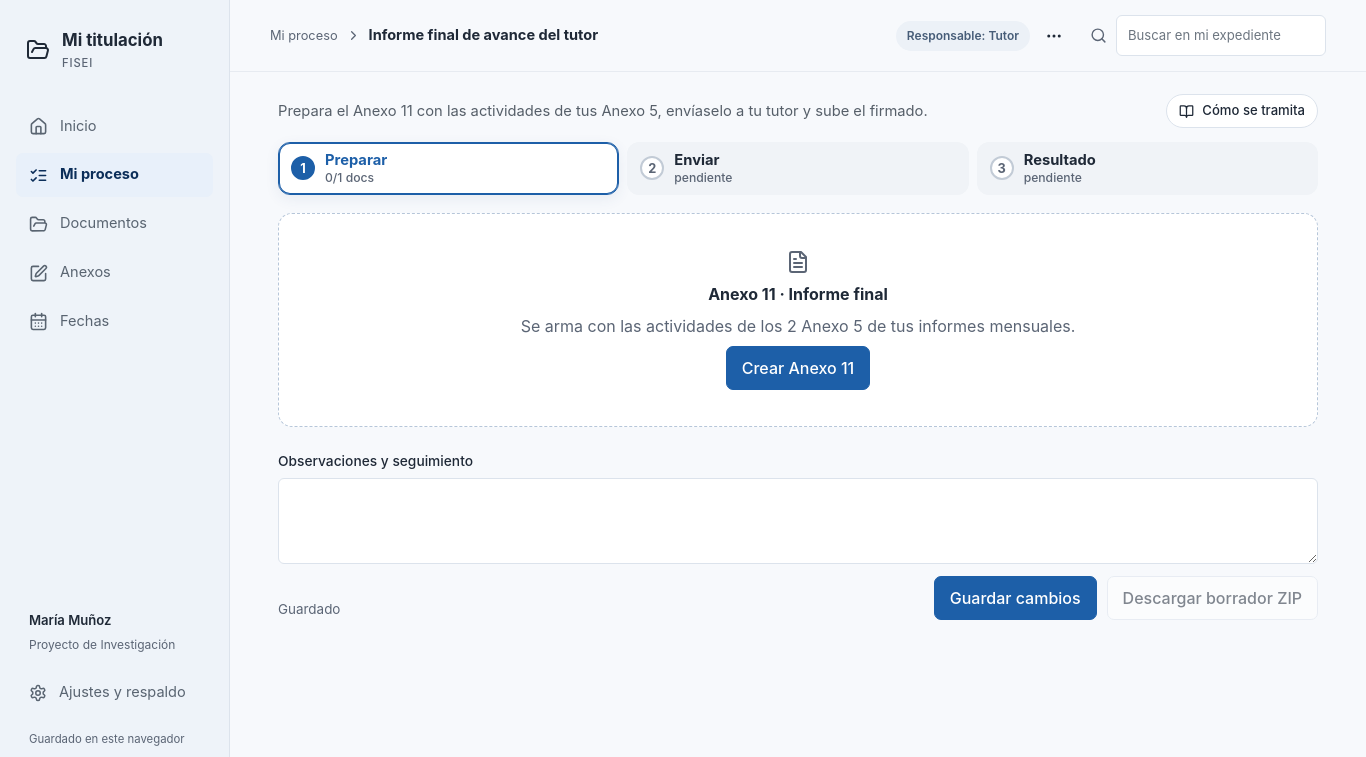
Test: creates the Anexo 11 from the uploaded Anexo 5 and keeps the format notes in a tooltip
Expected: the heading "Informe final de avance del tutor" is shown, [369, 27, 598, 44]
Expected: the button "Cómo se tramita" is shown, [1166, 94, 1318, 128]
Click the button "Crear Anexo 11". click: (798, 368)
box: [726, 346, 870, 390]
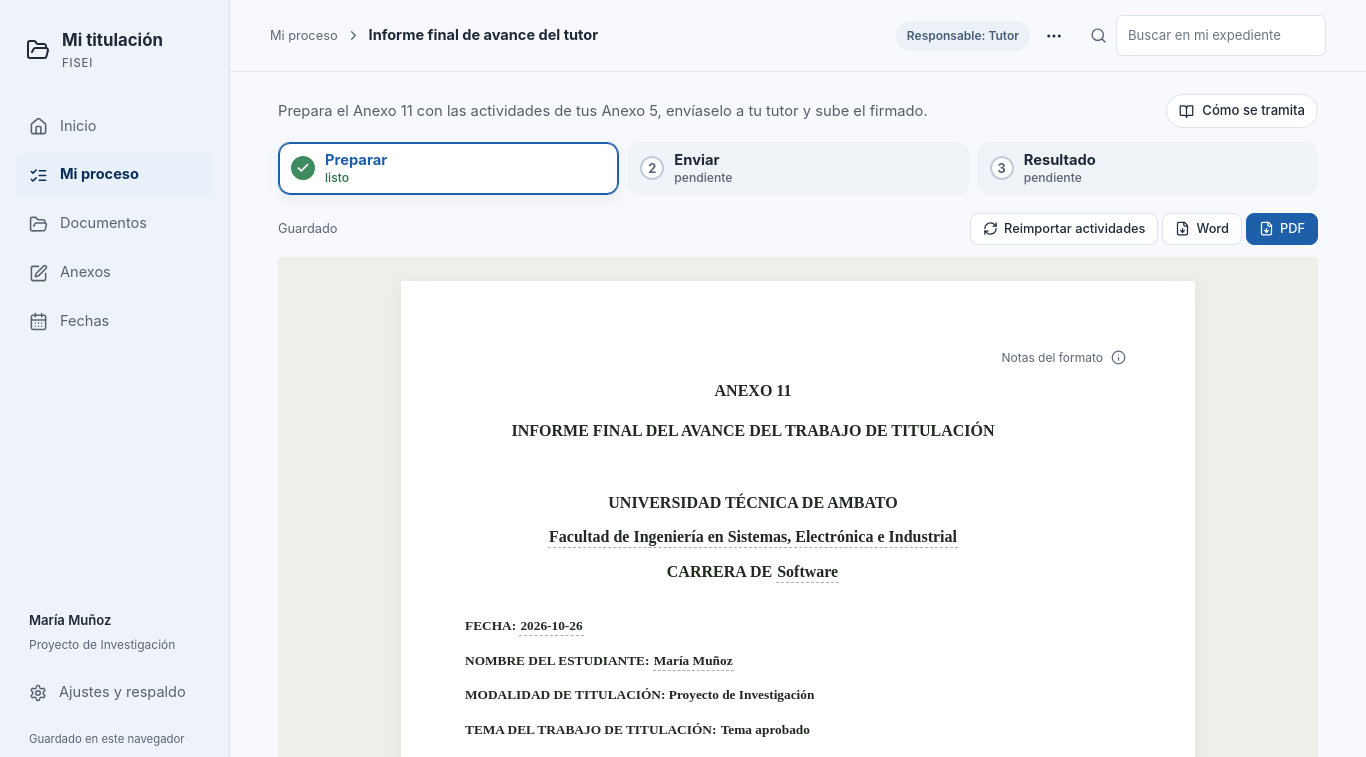
Result: the tab "Preparar listo" is shown at [278, 142, 619, 195]
Click the tab "3 Resultado pendiente". click: (1060, 160)
box: [977, 142, 1318, 195]
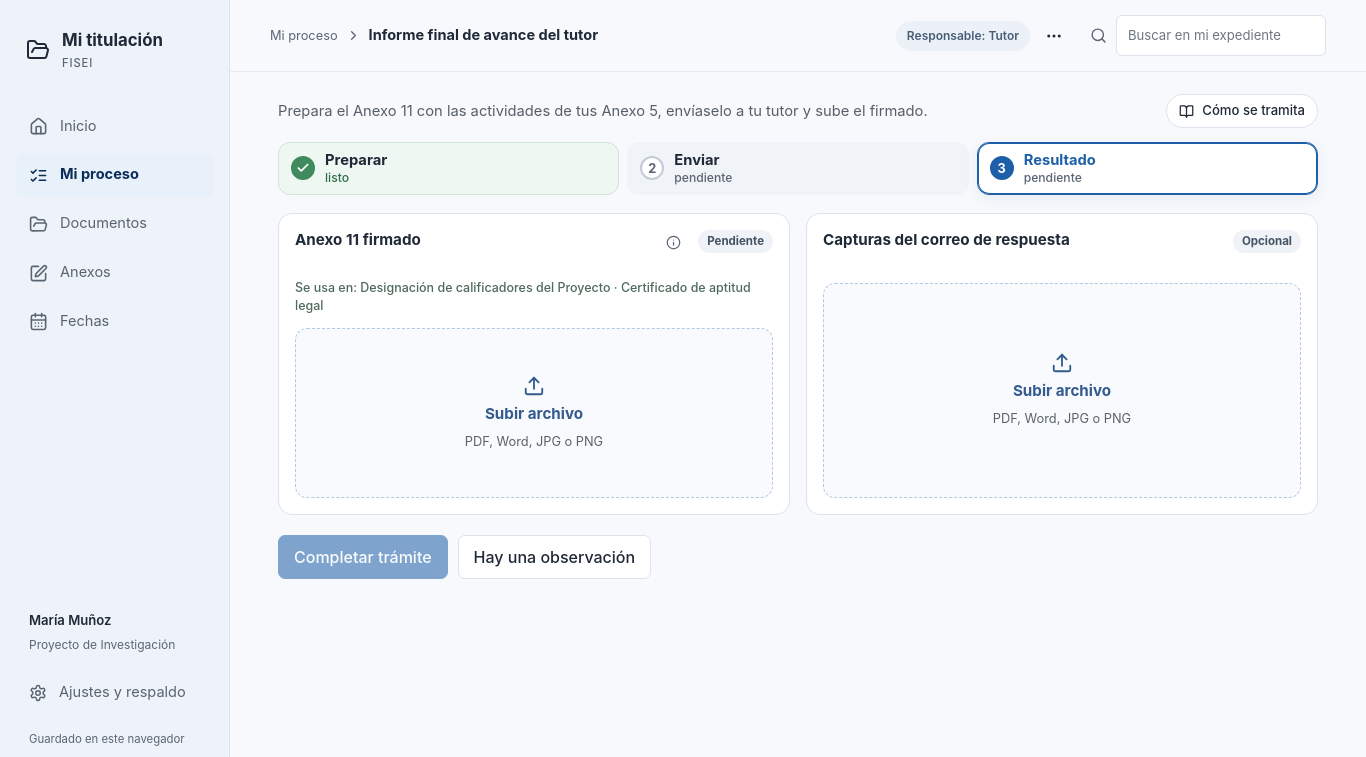
Result: the button "Subir archivo PDF, Word, JPG o PNG" below "Anexo 11 firmado" is shown at [295, 328, 773, 498]
